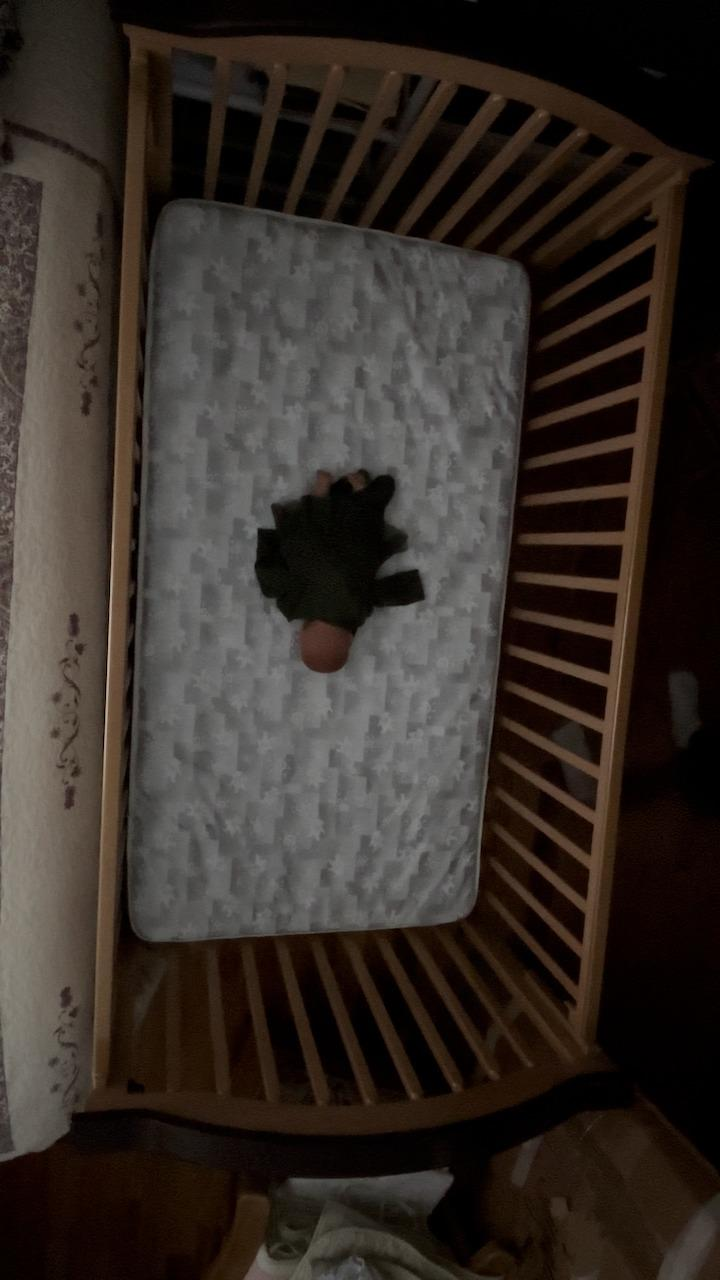baby: (265, 458, 420, 676)
